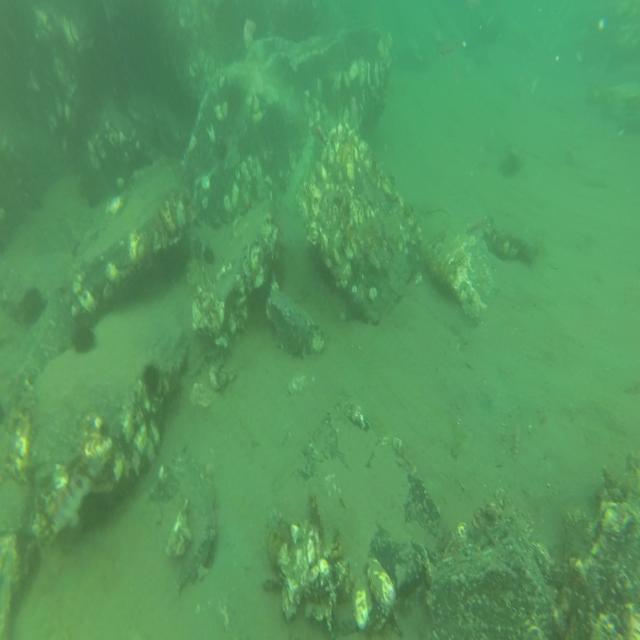echinus: (23, 289, 42, 325), (72, 327, 96, 352), (142, 365, 161, 394), (86, 177, 103, 207)
